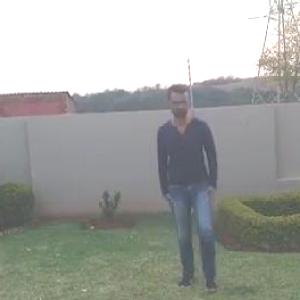follow: (160, 70, 228, 299)
